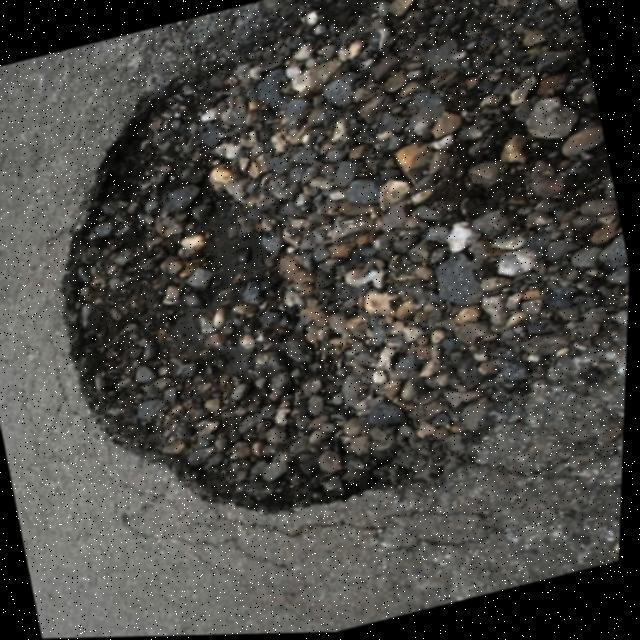pothole: (0, 2, 535, 564)
